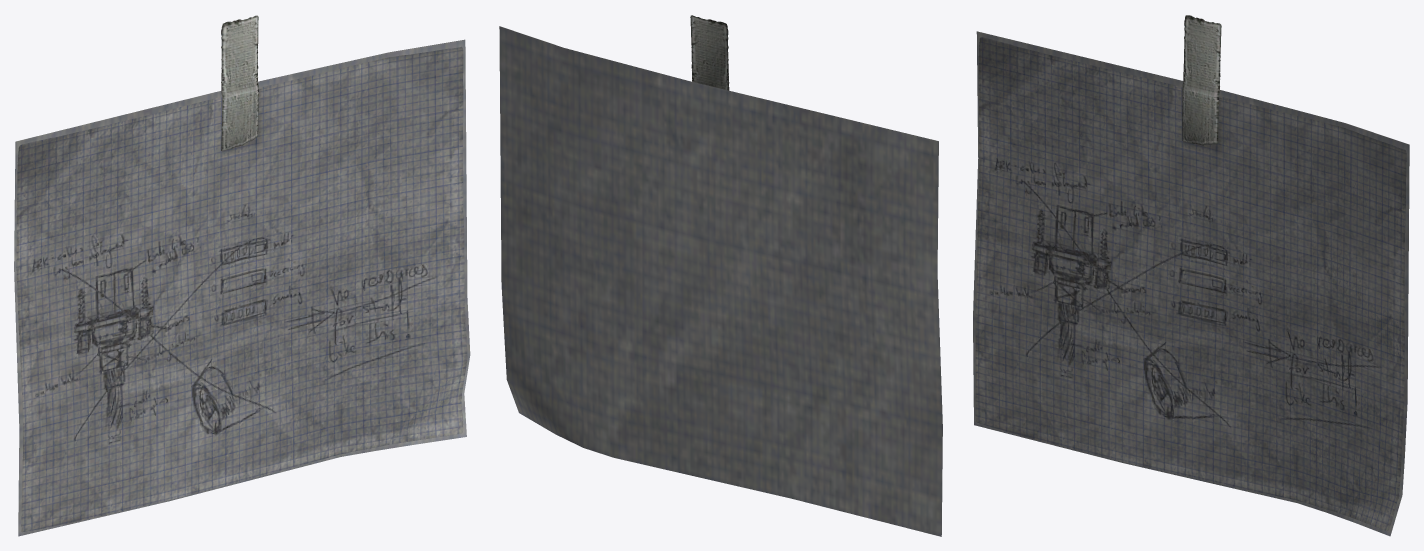
Rendered from 02_05_ark_sketch03.dae.
3 renders of one model, left to right at view 1: azimuth 30°, elevation 25°; view 2: azimuth 150°, elevation 25°; view 3: azimuth 330°, elevation 25°, orthographic.
Parts seen in each view (by area): view 1: ark_sketch03, ark_sketch03_tape; view 2: ark_sketch03, ark_sketch03_tape; view 3: ark_sketch03, ark_sketch03_tape.
Boxes of the visible parts, x1,y1,x2,y2 form: ark_sketch03: (14, 39, 470, 536); ark_sketch03_tape: (221, 15, 258, 150); ark_sketch03: (499, 26, 942, 536); ark_sketch03_tape: (690, 15, 729, 90); ark_sketch03: (973, 31, 1409, 536); ark_sketch03_tape: (1182, 15, 1221, 145).
Size of the model in its own units: 0.5759 by 0.5723 by 0.0458.
